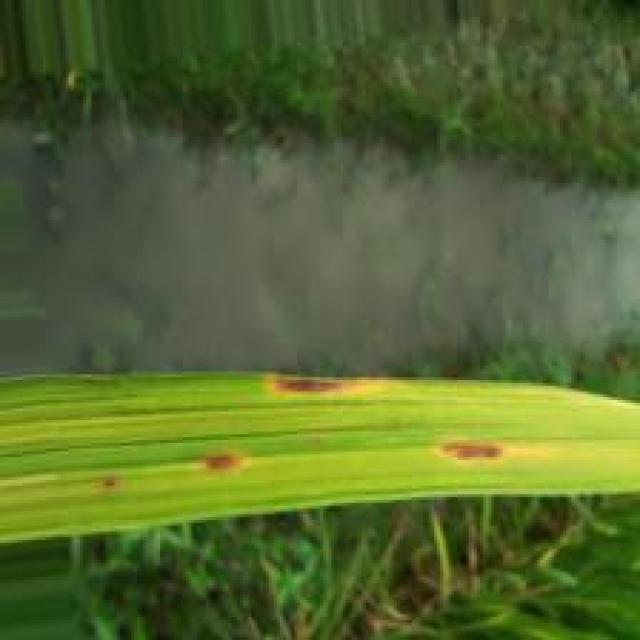Narrow_Brown_Leaf_Spot: (263, 374, 402, 406), (432, 442, 568, 468), (192, 449, 260, 479), (92, 472, 134, 494)
